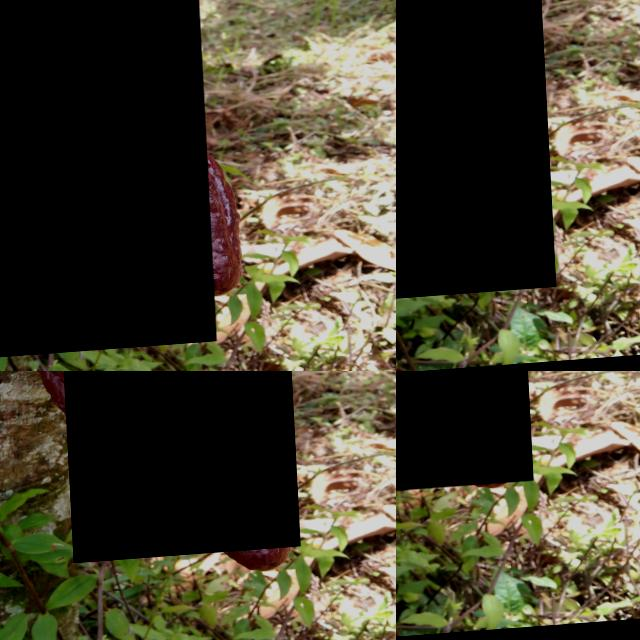Monilia: (0, 0, 210, 360), (57, 371, 295, 566), (396, 371, 528, 502)
Sana: (396, 0, 550, 308)
